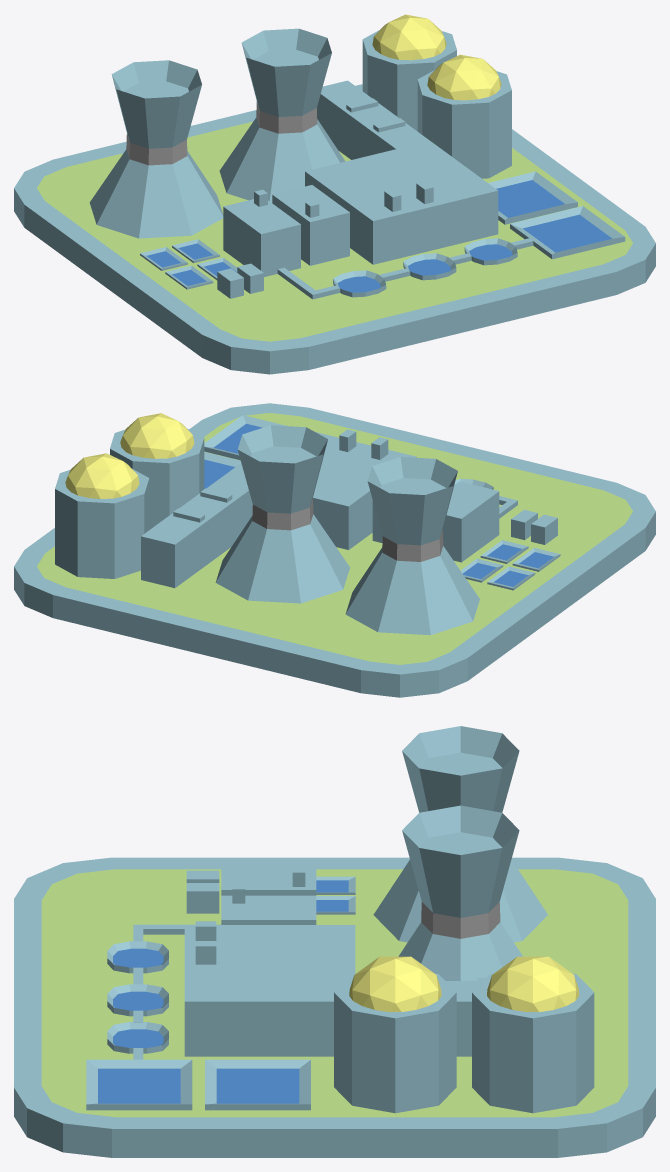
The model's file is powerplant.glb.
The picture shows the model from 3 angles, top to bottom: view 1: azimuth 30°, elevation 25°; view 2: azimuth 150°, elevation 25°; view 3: azimuth 270°, elevation 25°; orthographic projection. The views are drawn at different scales.
Parts seen in each view (by area): view 1: Plane; view 2: Plane; view 3: Plane.
Part boxes in pixels (x1,y1,x2,y2): Plane: (14,14,655,374); Plane: (14,403,655,697); Plane: (14,726,655,1157).
Bounding box in the file's own units: 2 × 0.664 × 2.
